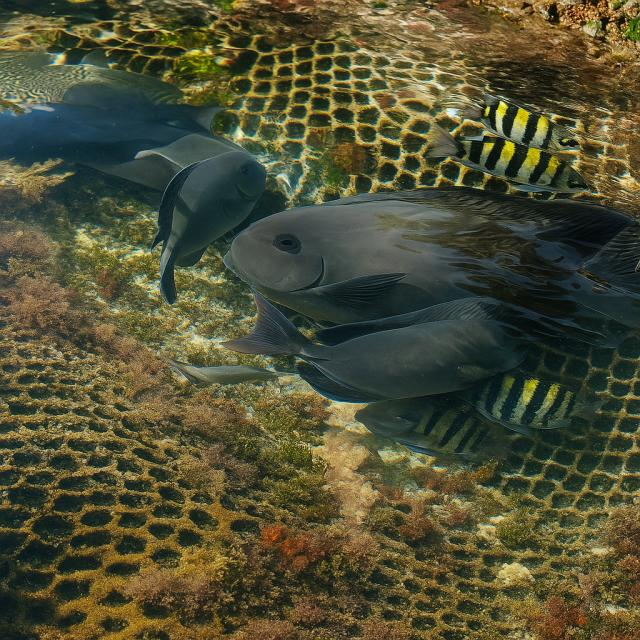ikan: (154, 140, 265, 301), (445, 91, 600, 192)
